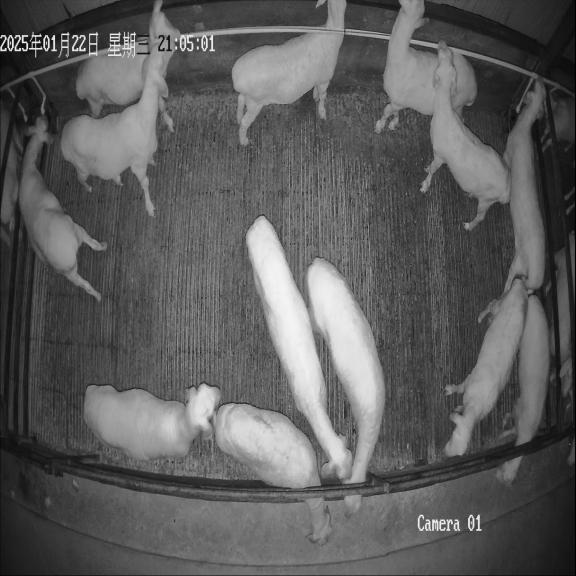drinking: (18, 117, 107, 300)
eating: (215, 403, 331, 544), (496, 295, 550, 484)
stand: (246, 216, 352, 480), (307, 257, 385, 513), (60, 53, 164, 216), (421, 41, 510, 230), (232, 0, 346, 145), (445, 278, 528, 455), (75, 0, 181, 131), (374, 0, 477, 133), (84, 383, 220, 461), (504, 83, 545, 293)
